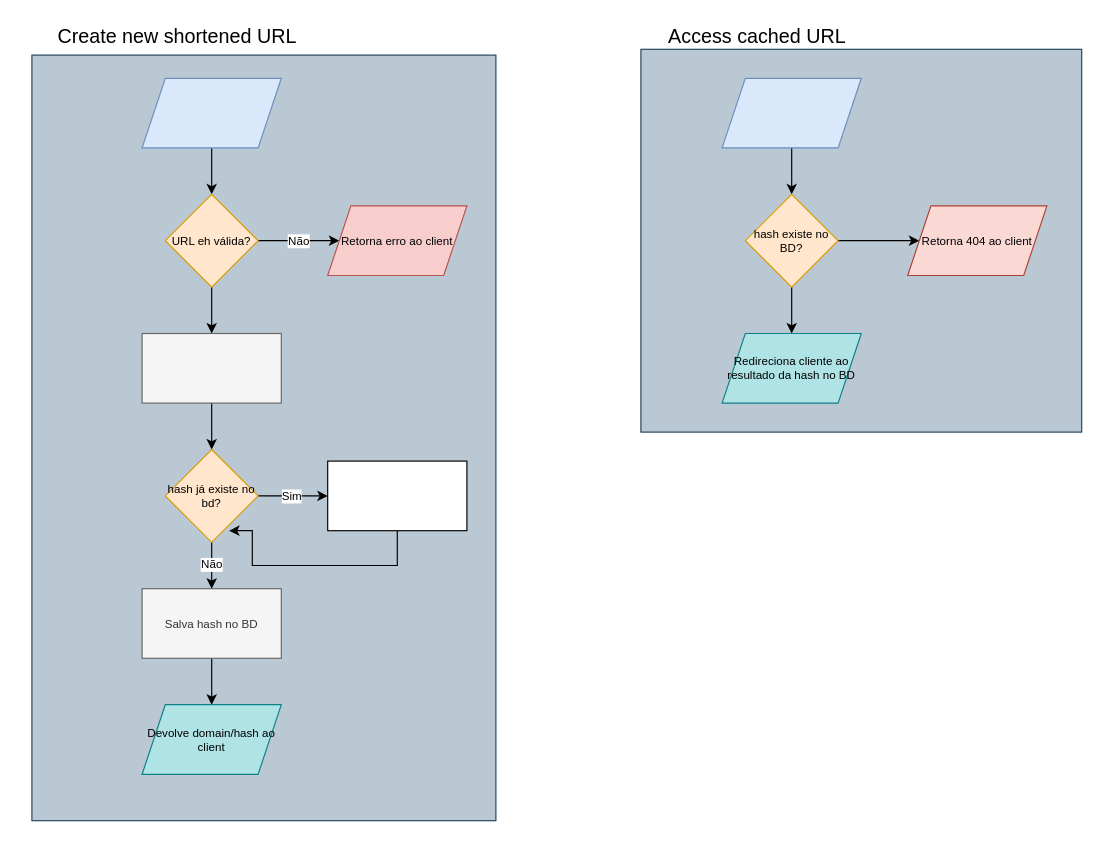
This 1102x841 diagram has some shape labels left out. The shapes that lost their labels are listed below. From the top down, each one's centre as x and y in pixels, then its label:
At (x=211, y=112): "Input: url".
At (x=791, y=112): "GET http://domain/<hash>".
At (x=211, y=367): "Calcula hash".
At (x=397, y=495): "Calcula próxima hash".
